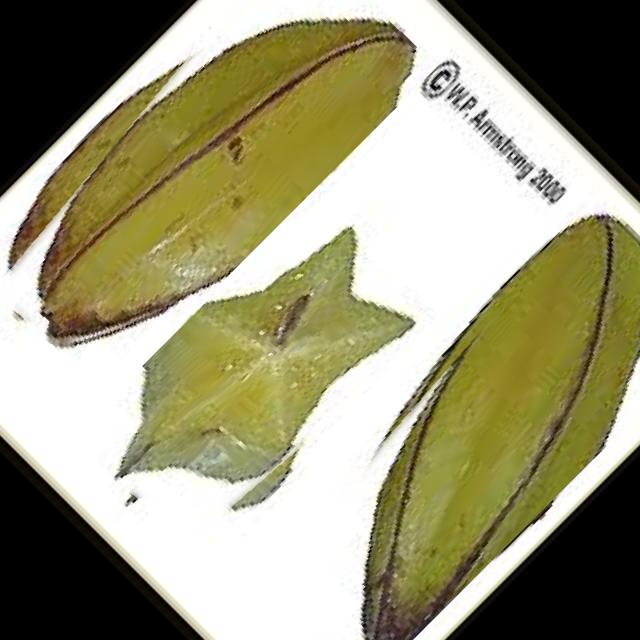Organic: (0, 0, 443, 401), (240, 201, 640, 640), (64, 192, 446, 574)
